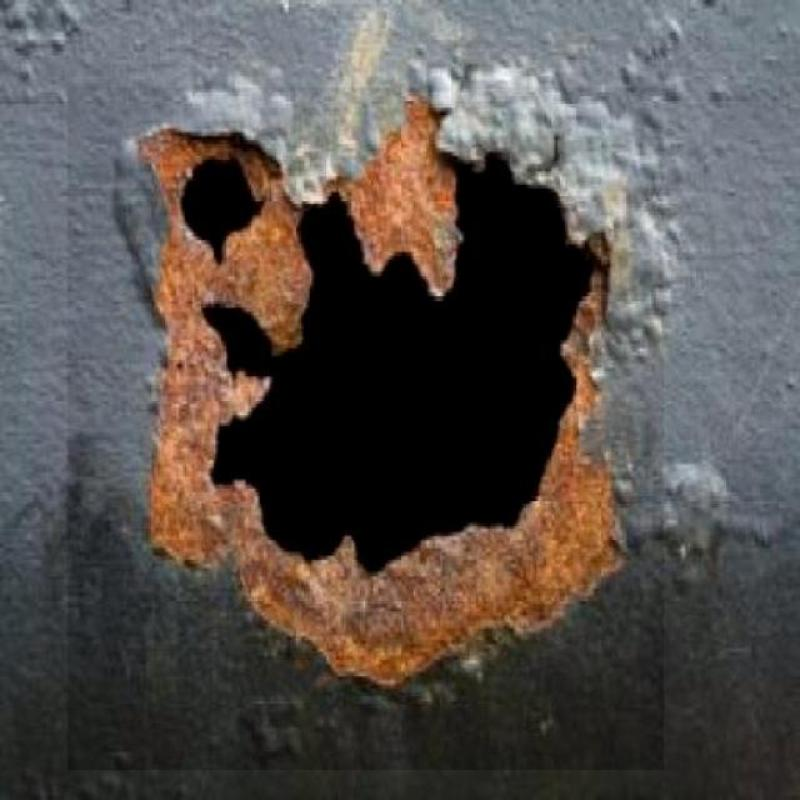Fracture: (106, 92, 641, 647)
